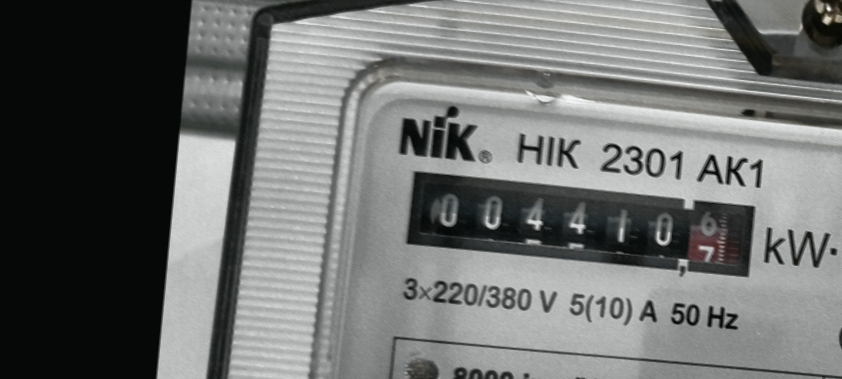0: (436, 188, 461, 228), (481, 190, 503, 230), (652, 209, 675, 246)
1: (612, 205, 629, 243)
4: (565, 196, 590, 237), (522, 191, 547, 231)
6: (700, 208, 719, 236)
7: (695, 241, 715, 262)
screen: (393, 156, 769, 289)
